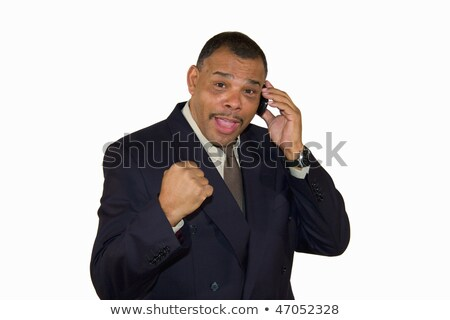phone: (260, 85, 288, 136)
talk: (200, 70, 306, 155)
